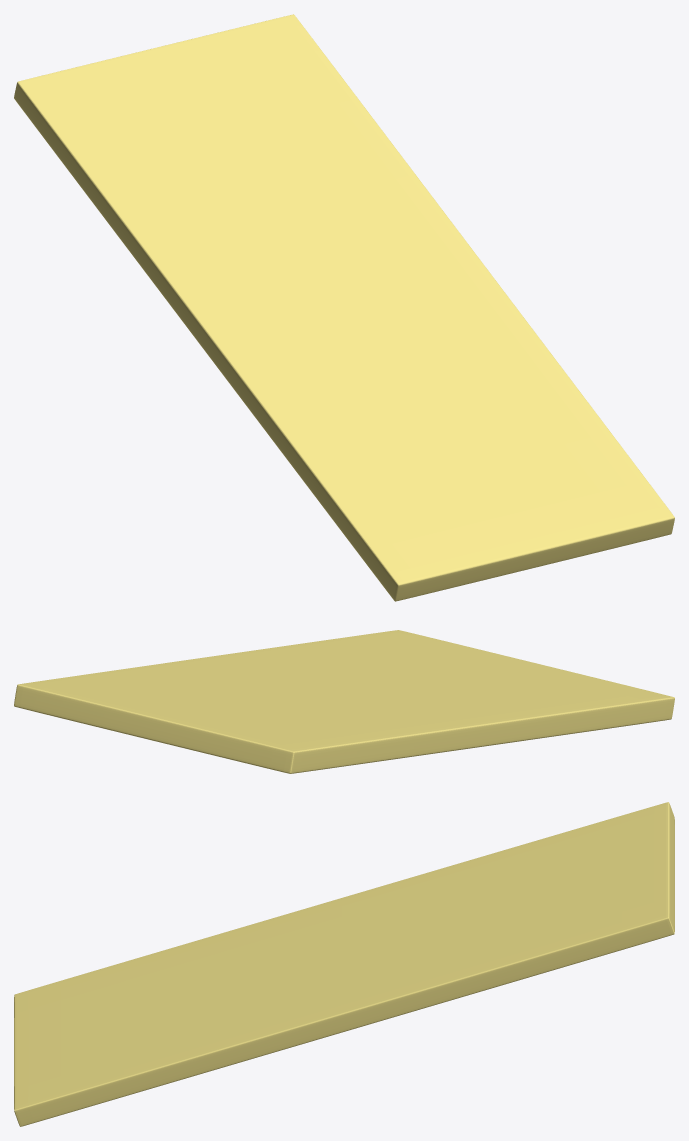
File: Mega_ParkourRamp_Hi_205701.fbx
The picture shows the model from 3 angles, top to bottom: view 1: azimuth 30°, elevation 25°; view 2: azimuth 150°, elevation 25°; view 3: azimuth 270°, elevation 25°; orthographic projection. The views are drawn at different scales.
Visible parts, largest first — view 1: Cube; view 2: Cube; view 3: Cube.
Part boxes in pixels (bbox=[...]): Cube: bbox=[14, 14, 674, 601]; Cube: bbox=[14, 630, 674, 773]; Cube: bbox=[14, 802, 674, 1126].
Size of the model in its own units: 4 by 3.36 by 9.58.
